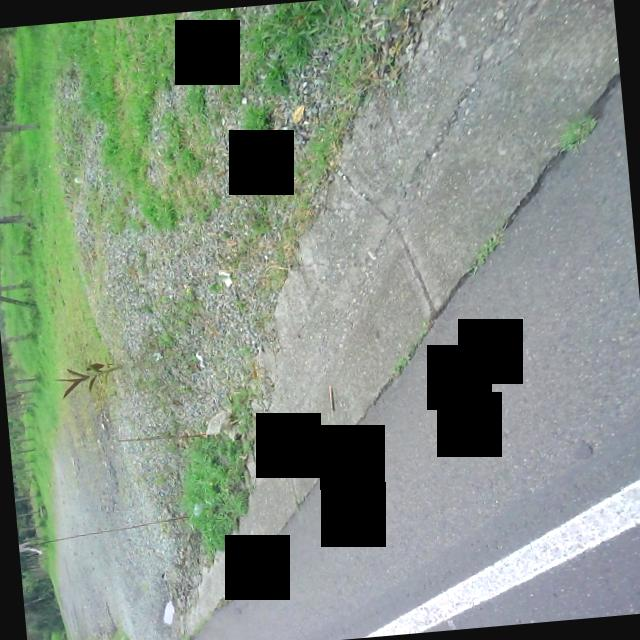DITCH: (1, 0, 640, 640), (103, 0, 640, 640)
